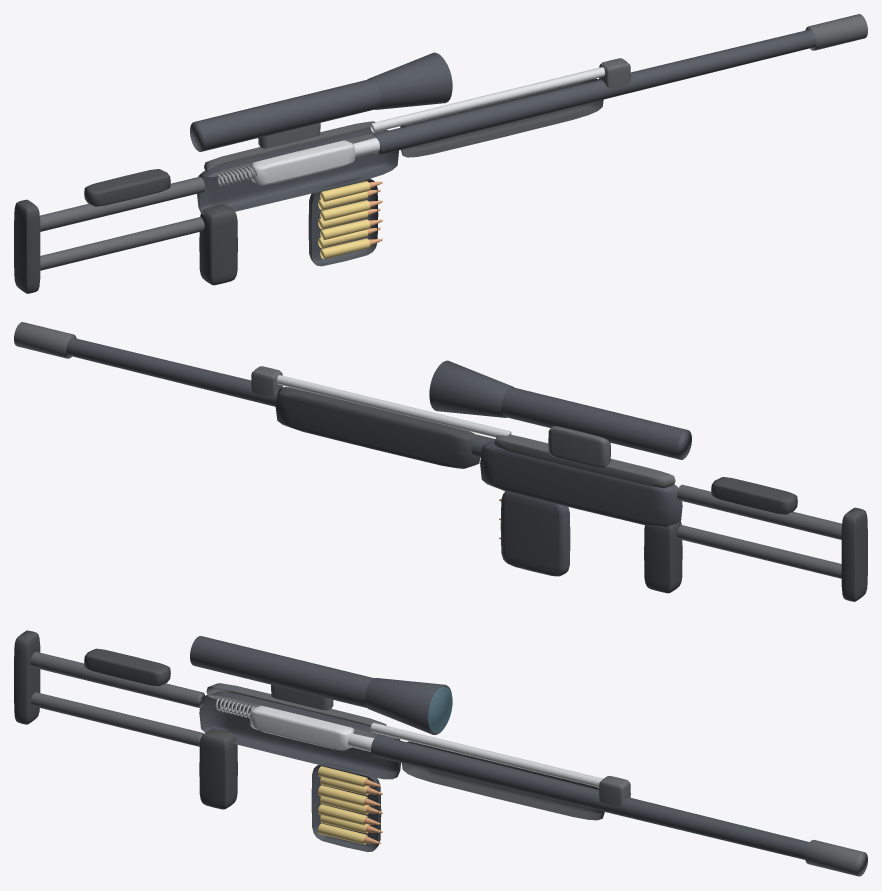
File: svdk-cut.glb
3 views of the same model, one above another, from view 1: azimuth 30°, elevation 25°; view 2: azimuth 150°, elevation 25°; view 3: azimuth 330°, elevation 25° (orthographic).
Parts seen in each view (by area): view 1: barrel, optic_tube, receiver, optic_obj, handguard, pistol_grip, bolt_carrier, stock_bot_tube, gas_piston_short, stock_top_tube, stock_buttplate, cheek_pad (+9 smaller); view 2: handguard, receiver, optic_tube, mag_body, barrel, optic_obj, stock_bot_tube, dust_cover, pistol_grip, gas_piston_short, stock_top_tube, stock_buttplate (+4 smaller); view 3: barrel, optic_tube, receiver, optic_obj, handguard, pistol_grip, stock_bot_tube, bolt_carrier, stock_top_tube, gas_piston_short, stock_buttplate, cheek_pad (+10 smaller).
Part boxes in pixels (left/top/right/bottom): barrel: left=373, top=29, right=815, bottom=155; optic_tube: left=190, top=79, right=380, bottom=151; receiver: left=197, top=129, right=398, bottom=215; optic_obj: left=367, top=52, right=452, bottom=109; handguard: left=400, top=78, right=603, bottom=157; pistol_grip: left=199, top=204, right=237, bottom=285; bolt_carrier: left=250, top=140, right=355, bottom=185; stock_bot_tube: left=40, top=217, right=204, bottom=270; gas_piston_short: left=370, top=67, right=605, bottom=132; stock_top_tube: left=40, top=176, right=204, bottom=231; stock_buttplate: left=14, top=199, right=40, bottom=293; cheek_pad: left=84, top=169, right=170, bottom=206; handguard: left=275, top=387, right=479, bottom=468; receiver: left=480, top=440, right=682, bottom=527; optic_tube: left=501, top=387, right=691, bottom=459; mag_body: left=500, top=491, right=570, bottom=576; barrel: left=66, top=337, right=495, bottom=457; optic_obj: left=429, top=360, right=514, bottom=417; stock_bot_tube: left=677, top=525, right=841, bottom=578; dust_cover: left=494, top=434, right=675, bottom=488; pistol_grip: left=644, top=521, right=682, bottom=593; gas_piston_short: left=276, top=375, right=511, bottom=437; stock_top_tube: left=677, top=484, right=841, bottom=539; stock_buttplate: left=841, top=507, right=867, bottom=601; barrel: left=371, top=735, right=809, bottom=859; optic_tube: left=190, top=636, right=373, bottom=707; receiver: left=199, top=691, right=400, bottom=779; optic_obj: left=365, top=678, right=451, bottom=734; handguard: left=402, top=741, right=604, bottom=820; pistol_grip: left=199, top=728, right=237, bottom=809; stock_bot_tube: left=31, top=692, right=203, bottom=746; bolt_carrier: left=250, top=705, right=354, bottom=750; stock_top_tube: left=30, top=651, right=204, bottom=707; gas_piston_short: left=370, top=723, right=603, bottom=787; stock_buttplate: left=14, top=630, right=40, bottom=724; cheek_pad: left=84, top=648, right=170, bottom=686.
Bounding box in the file's own units: 1.2 × 0.2505 × 0.0635.
